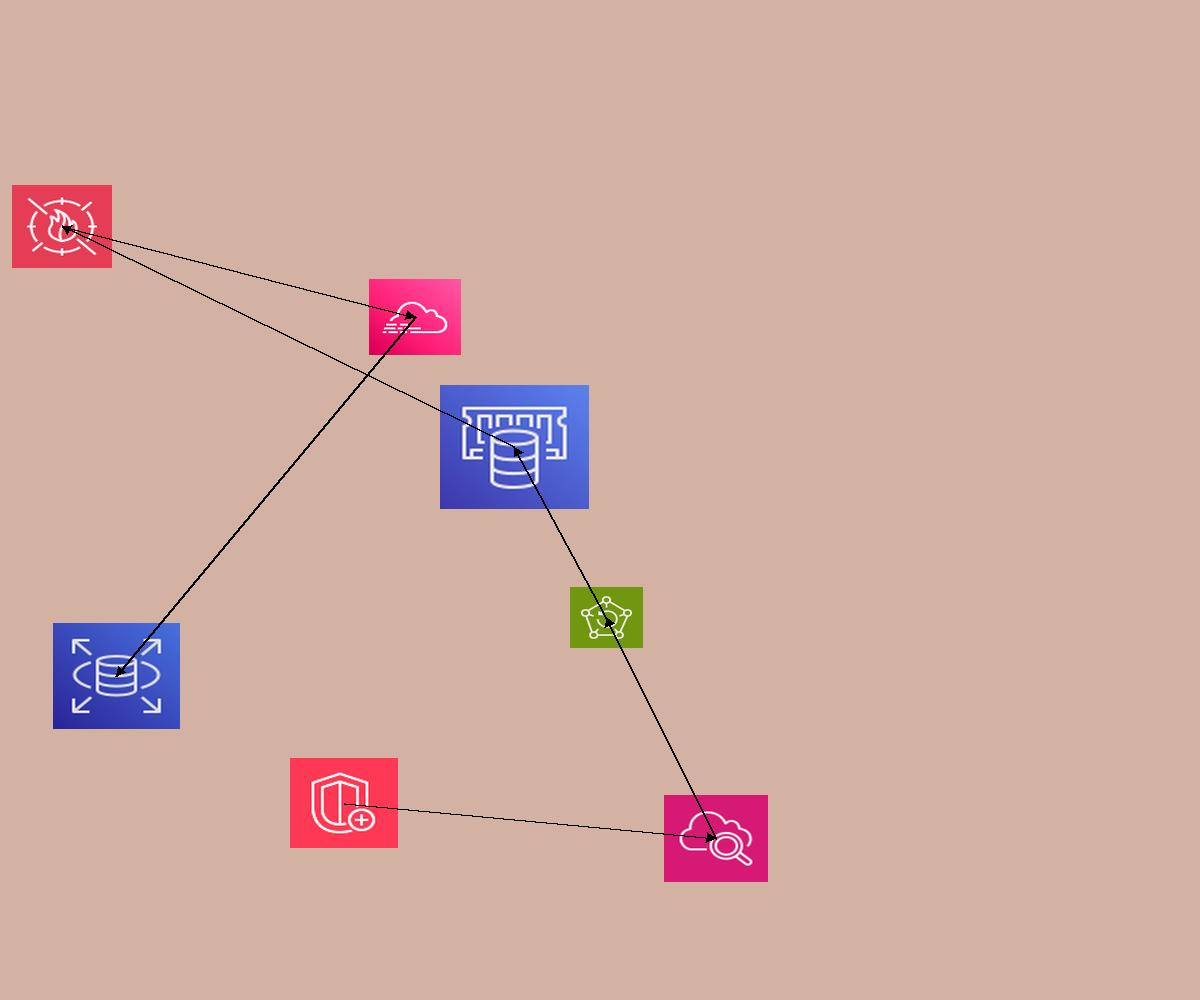AWS-Backup: (570, 587, 643, 648)
AWS-CloudTrail: (369, 279, 461, 355)
AWS-CloudWatch: (664, 795, 768, 882)
AWS-ElastiCache: (440, 385, 589, 509)
AWS-RDS: (53, 623, 180, 729)
AWS-Shield: (290, 758, 398, 848)
AWS-WAF: (12, 185, 112, 268)
